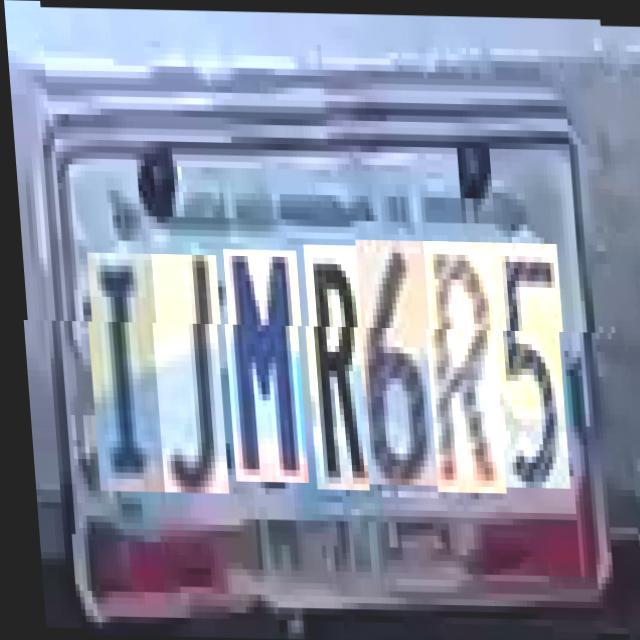5: (488, 240, 567, 487)
6: (352, 238, 434, 484)
I: (83, 252, 161, 492)
J: (147, 253, 225, 493)
M: (220, 248, 306, 482)
R: (421, 239, 504, 491), (299, 244, 366, 489)
